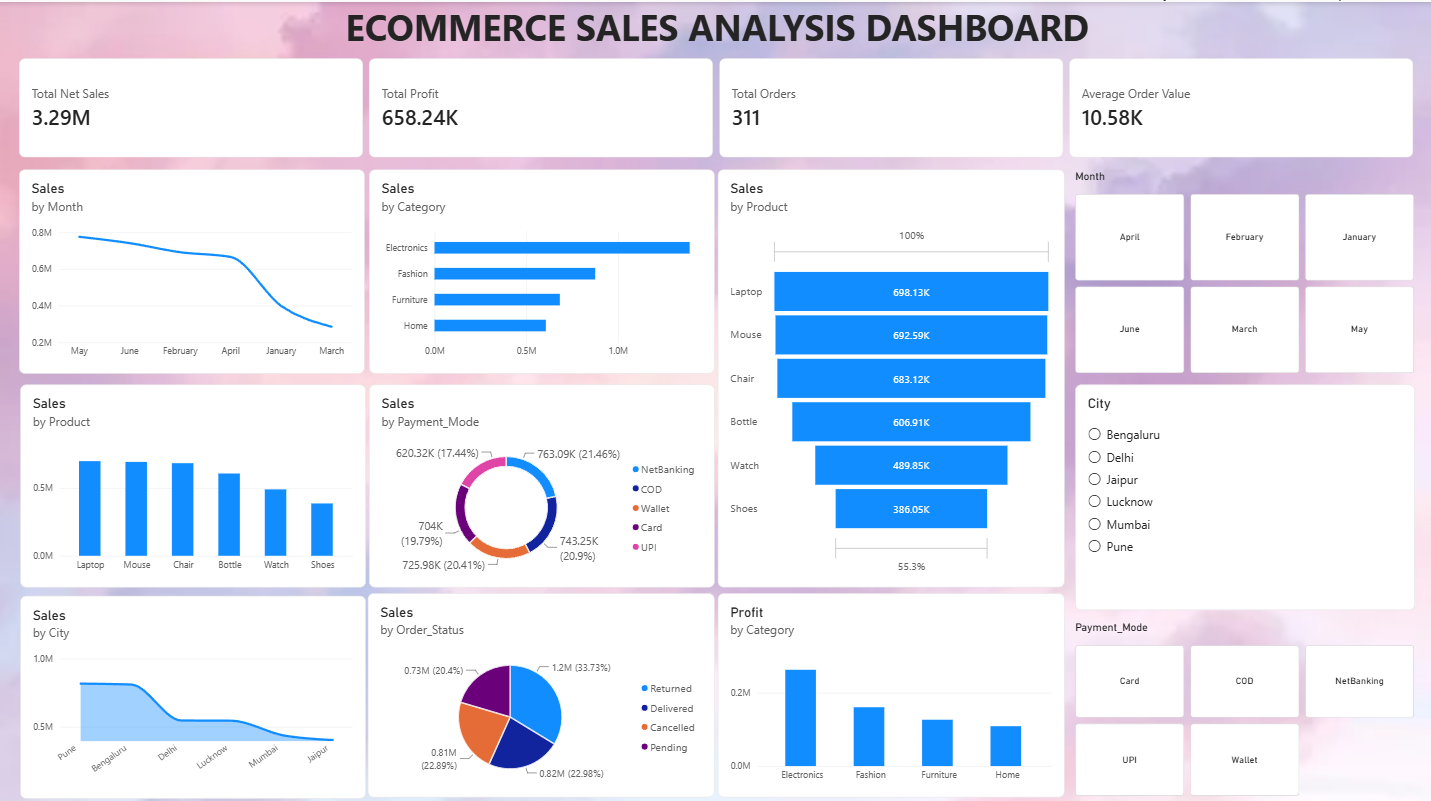

This screenshot's page, from the dashboard's own definition file:
{"tool":"powerbi","page":{"name":"Page 1","canvas":[1920,1080],"ordinal":0},"visuals":[{"type":"cardVisual","fields":{"Data":["DAX Measure.Total Sales","DAX Measure.Total Profit","DAX Measure.Total Orders","DAX Measure.Average Order Value"]},"box":[26.8,76.2,1871,133.8],"z":0},{"type":"textbox","box":[26.8,0,1871,76.2],"z":1000},{"type":"lineChart","fields":{"Category":["ecommercee orders.Month"],"Y":["Sum(ecommercee orders.Sales)"]},"box":[26.8,224.4,463.1,273.8],"z":2000},{"type":"clusteredBarChart","fields":{"Category":["ecommercee orders.Category"],"Y":["Sum(ecommercee orders.Sales)"]},"box":[496.1,224.4,463.1,273.8],"z":3000},{"type":"clusteredColumnChart","fields":{"Category":["ecommercee orders.Product"],"Y":["Sum(ecommercee orders.Sales)"]},"box":[28.8,512.5,463.1,271.7],"z":4000},{"type":"areaChart","fields":{"Category":["ecommercee orders.City"],"Y":["Sum(ecommercee orders.Sales)"]},"box":[29,795,463,272],"z":5000},{"type":"donutChart","fields":{"Category":["ecommercee orders.Payment_Mode"],"Y":["Sum(ecommercee orders.Sales)"]},"box":[496.1,512.5,463.1,271.7],"z":6000},{"type":"pieChart","fields":{"Category":["ecommercee orders.Order_Status"],"Y":["Sum(ecommercee orders.Sales)"]},"box":[494,792.5,465.2,273.8],"z":7000},{"type":"funnel","fields":{"Category":["ecommercee orders.Product"],"Y":["Sum(ecommercee orders.Sales)"]},"box":[963.3,224.4,465.2,559.9],"z":8000},{"type":"columnChart","fields":{"Category":["ecommercee orders.Category"],"Y":["Sum(ecommercee orders.Profit)"]},"box":[963.3,792.5,465.2,273.8],"z":9000},{"type":"advancedSlicerVisual","fields":{"Values":["ecommercee orders.Month"]},"box":[1442.9,224.4,454.9,273.8],"z":10000},{"type":"listSlicer","fields":{"Values":["ecommercee orders.City"]},"box":[1442.9,512.5,454.9,302.6],"z":11000},{"type":"advancedSlicerVisual","fields":{"Values":["ecommercee orders.Payment_Mode"]},"box":[1442.9,829.5,454.9,236.7],"z":12000}]}

Visuals, with their boxes in screenshot pixels (x1, y1, x2, y2), scaled from the page's 1920x1080 canvas onto the 1431x801 screenshot:
cardVisual - DAX Measure.Total Sales x DAX Measure.Total Profit: x1=20 y1=57 x2=1414 y2=156
textbox: x1=20 y1=0 x2=1414 y2=57
lineChart - ecommercee orders.Month x Sum(ecommercee orders.Sales): x1=20 y1=166 x2=365 y2=369
clusteredBarChart - ecommercee orders.Category x Sum(ecommercee orders.Sales): x1=370 y1=166 x2=715 y2=369
clusteredColumnChart - ecommercee orders.Product x Sum(ecommercee orders.Sales): x1=21 y1=380 x2=367 y2=582
areaChart - ecommercee orders.City x Sum(ecommercee orders.Sales): x1=22 y1=590 x2=367 y2=791
donutChart - ecommercee orders.Payment_Mode x Sum(ecommercee orders.Sales): x1=370 y1=380 x2=715 y2=582
pieChart - ecommercee orders.Order_Status x Sum(ecommercee orders.Sales): x1=368 y1=588 x2=715 y2=791
funnel - ecommercee orders.Product x Sum(ecommercee orders.Sales): x1=718 y1=166 x2=1065 y2=582
columnChart - ecommercee orders.Category x Sum(ecommercee orders.Profit): x1=718 y1=588 x2=1065 y2=791
advancedSlicerVisual - ecommercee orders.Month: x1=1075 y1=166 x2=1414 y2=369
listSlicer - ecommercee orders.City: x1=1075 y1=380 x2=1414 y2=605
advancedSlicerVisual - ecommercee orders.Payment_Mode: x1=1075 y1=615 x2=1414 y2=791
